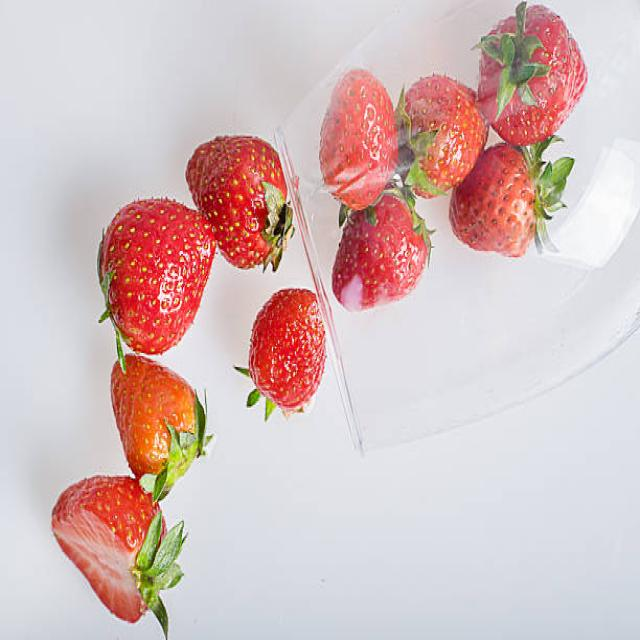Healthy Fruit: (101, 196, 217, 355), (52, 473, 167, 627), (479, 8, 589, 146), (187, 134, 293, 270), (110, 355, 203, 488), (319, 67, 398, 214), (332, 193, 429, 311), (397, 73, 487, 195), (448, 140, 534, 257), (251, 286, 329, 410)
